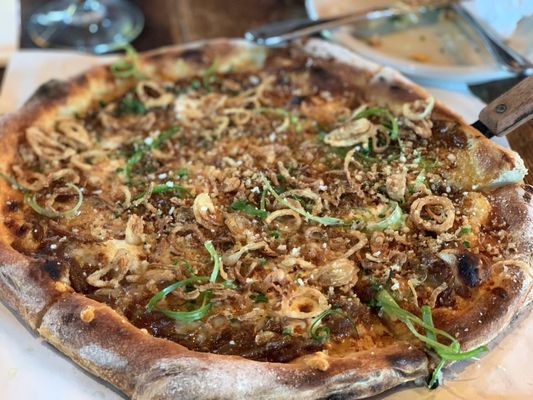pizza: (0, 0, 22, 104)
sandwich: (241, 1, 463, 44)
